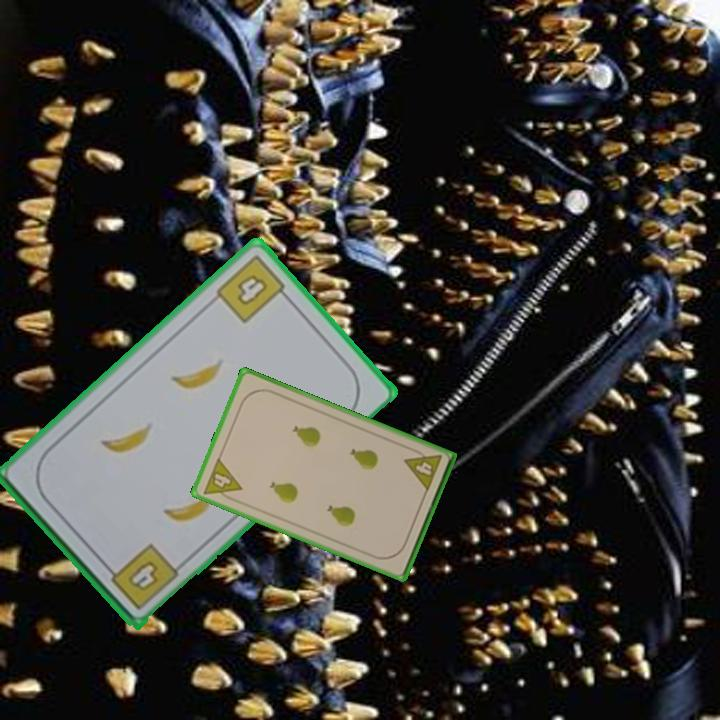4b: (212, 251, 294, 326), (101, 539, 182, 613)
4p: (199, 454, 245, 505), (401, 444, 445, 494)
